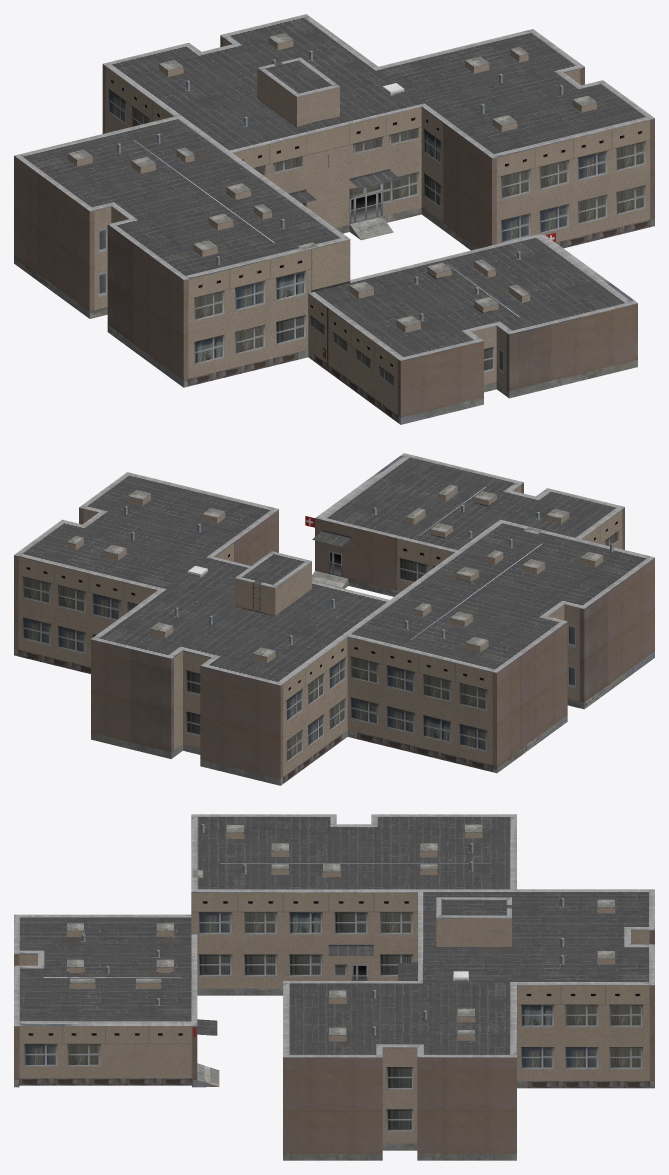
The model's file is exterior.glb.
3 views of the same model, one above another, from view 1: azimuth 30°, elevation 25°; view 2: azimuth 150°, elevation 25°; view 3: azimuth 270°, elevation 25° (orthographic). The views are drawn at different scales.
Visible parts, largest first — view 1: Object_0; view 2: Object_0; view 3: Object_0.
Part boxes in pixels (box(x1,y1,x2,y2)): Object_0: box(14, 14, 654, 424); Object_0: box(14, 453, 654, 785); Object_0: box(14, 814, 654, 1160).
Size of the model in its own units: 30.55 by 7.8 by 34.05.
Materials: 1 (1 with a texture image).
